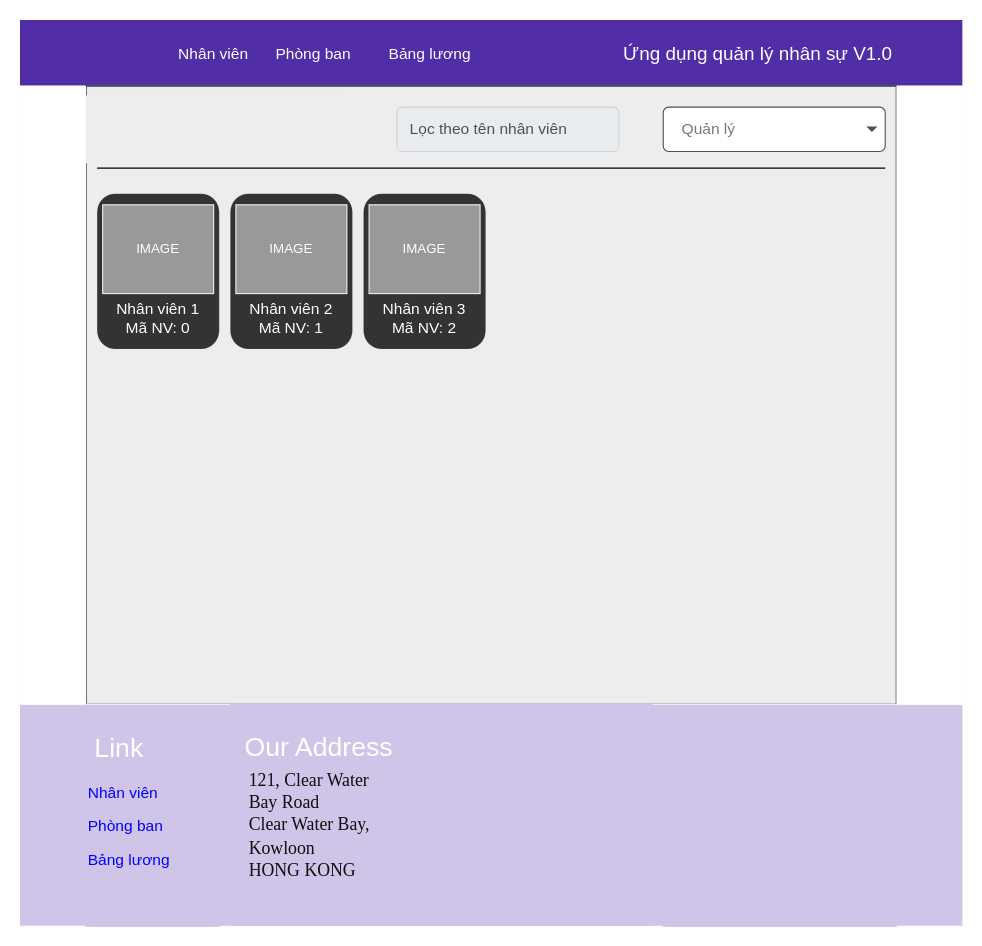
Image size: 982x946. Some labels were removed from this diagram. The centre of each missing label's shape, as x and y in pixels:
Danh sách nhân viên: the point at 213,129
LOGO: the point at 490,52
Social - Icon: the point at 779,815
